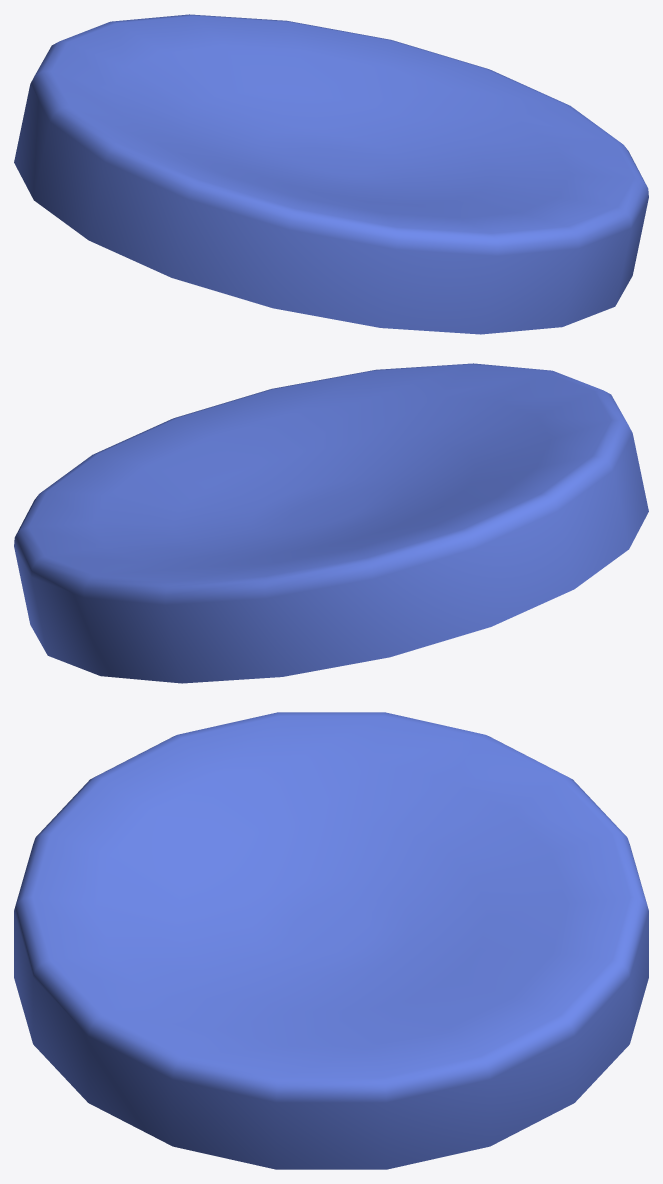
The model's file is arcade_button_a.glb.
3 renders of one model, top to bottom at view 1: azimuth 30°, elevation 25°; view 2: azimuth 150°, elevation 25°; view 3: azimuth 270°, elevation 25°, orthographic.
Visible parts, largest first — view 1: Arcade_Button_A; view 2: Arcade_Button_A; view 3: Arcade_Button_A.
Part boxes in pixels (x1=…): Arcade_Button_A: x1=14, y1=14, x2=648, y2=334; Arcade_Button_A: x1=14, y1=363, x2=648, y2=683; Arcade_Button_A: x1=14, y1=712, x2=648, y2=1169.
Size of the model in its own units: 0.4976 by 0.1861 by 0.5027.
